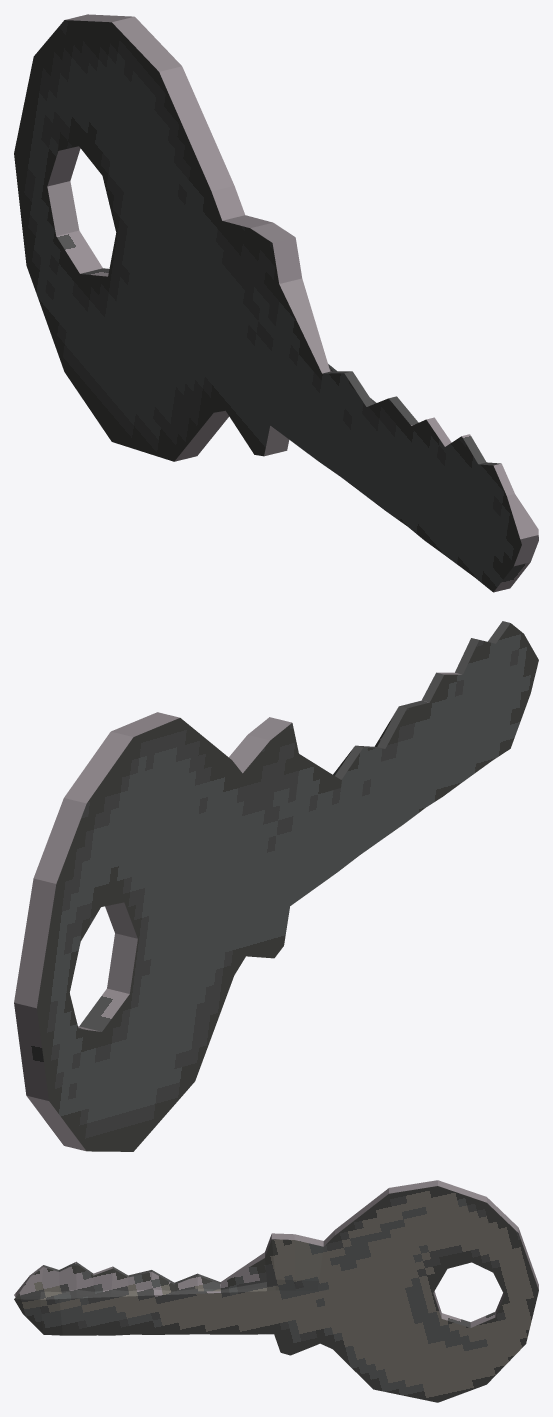
Rendered from key.fbx.
The picture shows the model from 3 angles, top to bottom: view 1: azimuth 30°, elevation 25°; view 2: azimuth 150°, elevation 25°; view 3: azimuth 270°, elevation 25°; orthographic projection. The views are drawn at different scales.
Visible parts, largest first — view 1: Cube; view 2: Cube; view 3: Cube.
Part boxes in pixels (x1,y1,x2,y2): Cube: [14, 14, 538, 592]; Cube: [14, 621, 538, 1151]; Cube: [14, 1180, 538, 1402].
Bounding box in the file's own units: 37.19 × 595 × 1305.
Materials: 1 (1 with a texture image).
